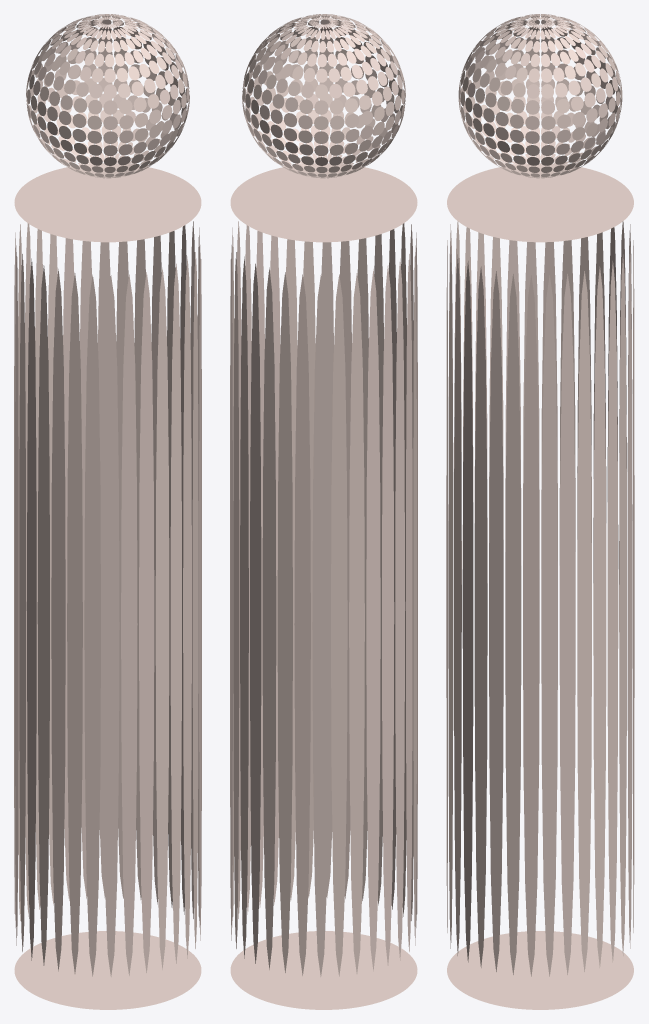
File: CH_PC1_PBR.glb
3 views of the same model, side by side, from view 1: azimuth 30°, elevation 25°; view 2: azimuth 150°, elevation 25°; view 3: azimuth 270°, elevation 25° (orthographic).
Visible parts, largest first — view 1: CH_PC1_Body, CH_PC1_Head; view 2: CH_PC1_Body, CH_PC1_Head; view 3: CH_PC1_Body, CH_PC1_Head.
Boxes of the visible parts, x1,y1,x2,y2 form: CH_PC1_Body: (14, 163, 201, 1009); CH_PC1_Head: (26, 14, 189, 178); CH_PC1_Body: (230, 163, 417, 1009); CH_PC1_Head: (242, 14, 405, 178); CH_PC1_Body: (446, 163, 634, 1009); CH_PC1_Head: (458, 14, 622, 178).
Size of the model in its own units: 0.7994 by 4.45 by 0.7994.
